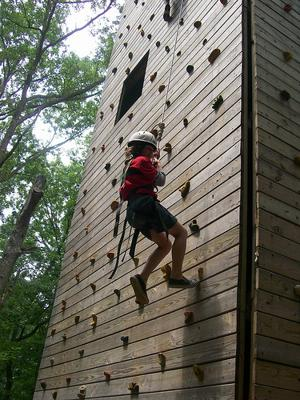person: (120, 130, 194, 306)
